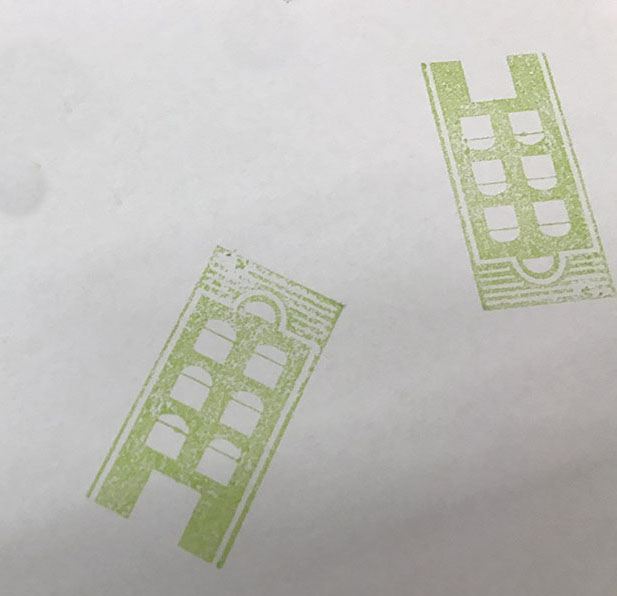build: (75, 238, 357, 584), (403, 48, 617, 318)
